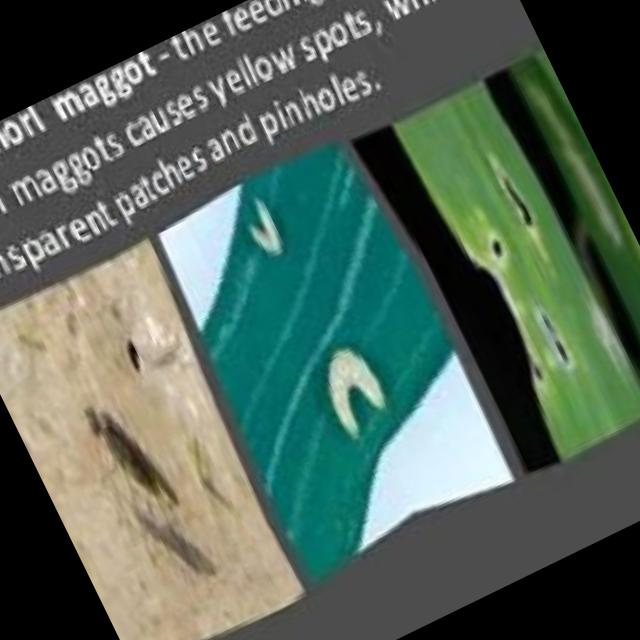whorl-maggot: (302, 329, 402, 444), (232, 194, 290, 262)
